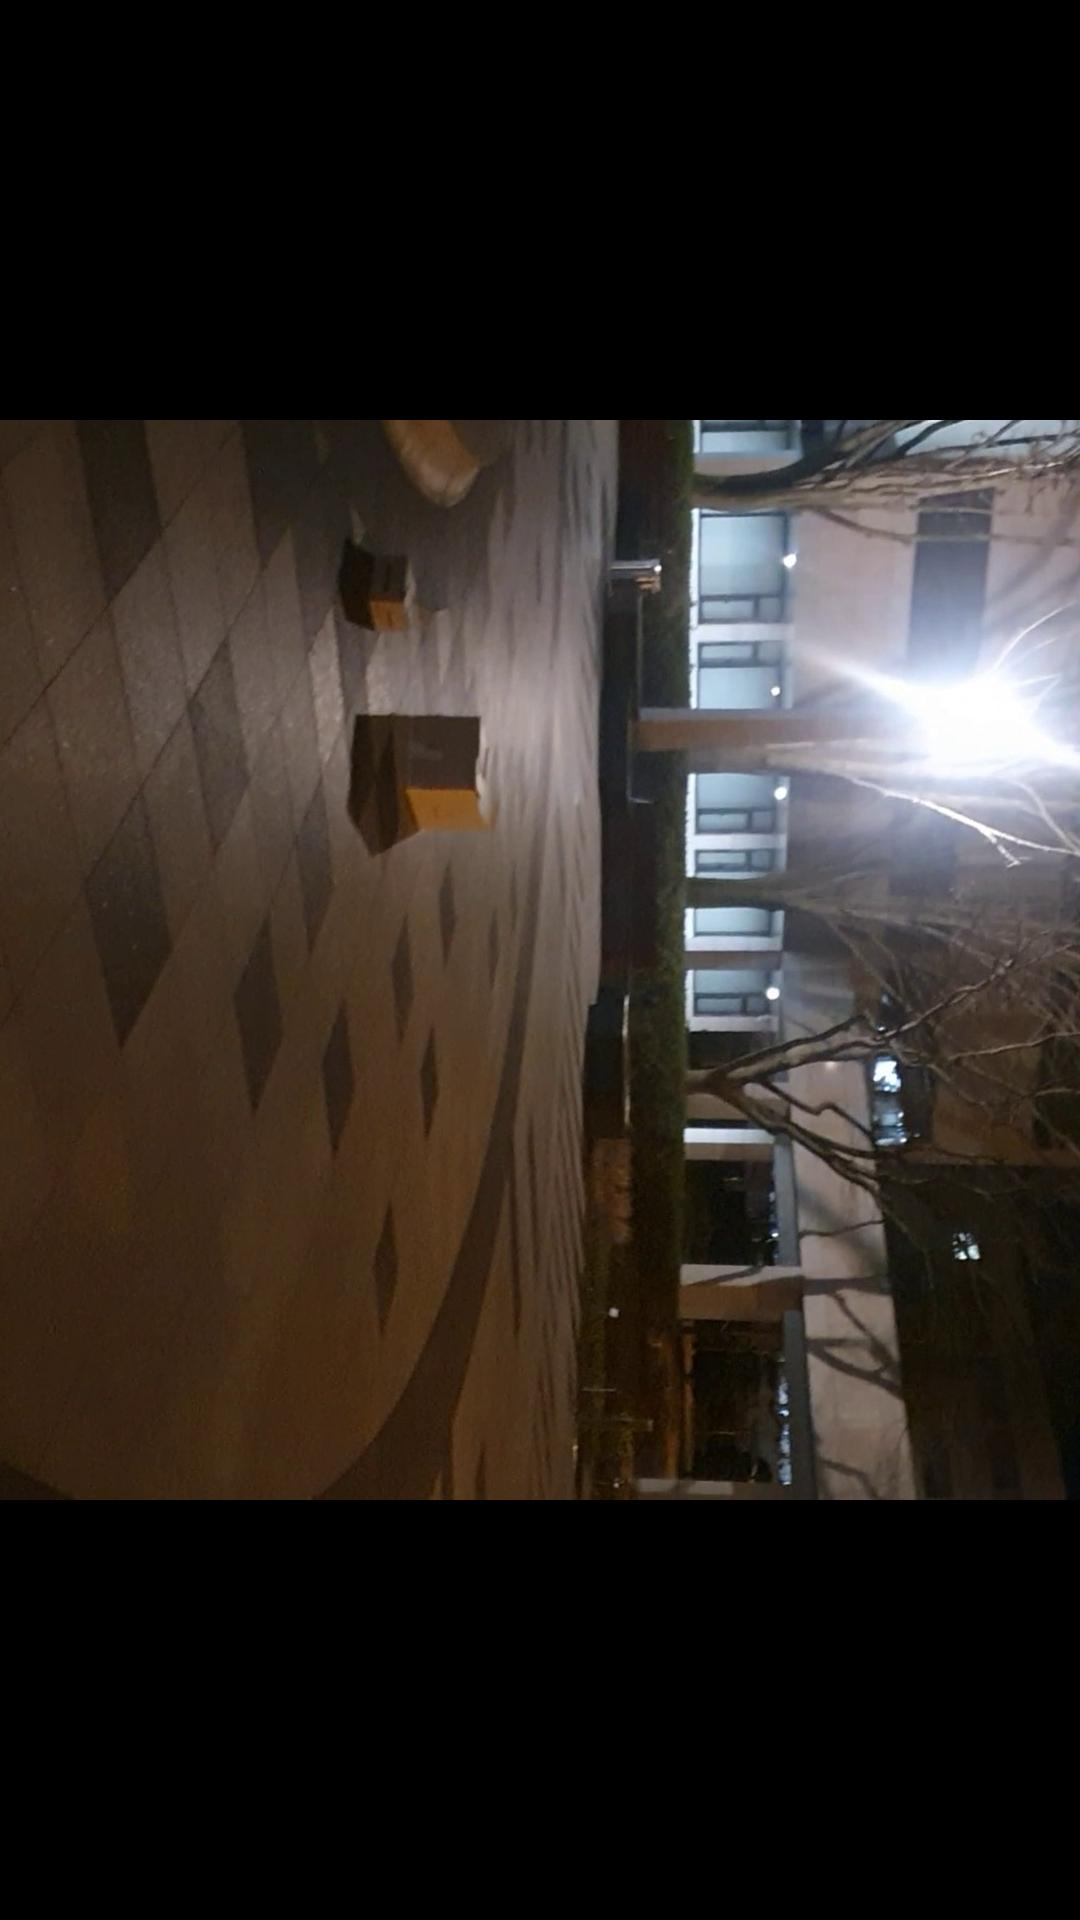Box: (386, 711, 497, 835), (360, 551, 419, 644)
